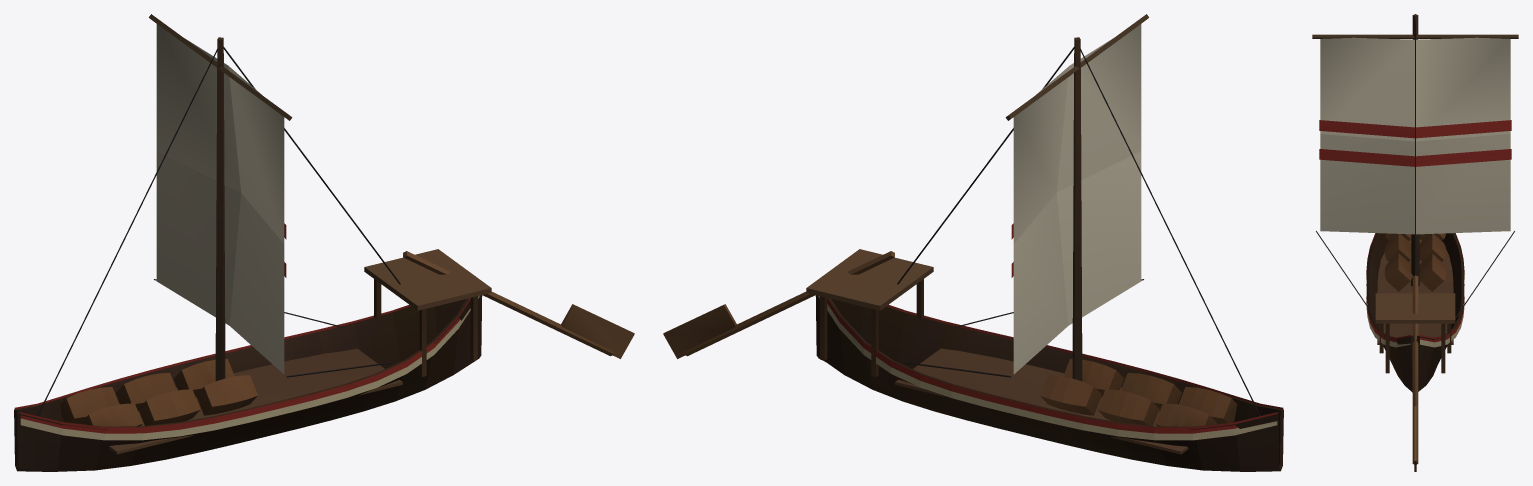
File: rb_rabelo_lo-CigKwsrn.glb
The picture shows the model from 3 angles, left to right: view 1: azimuth 30°, elevation 25°; view 2: azimuth 150°, elevation 25°; view 3: azimuth 270°, elevation 25°; orthographic projection. The views are drawn at different scales.
Bounding box in the file's own units: 13.39 × 8.65 × 5.2.
